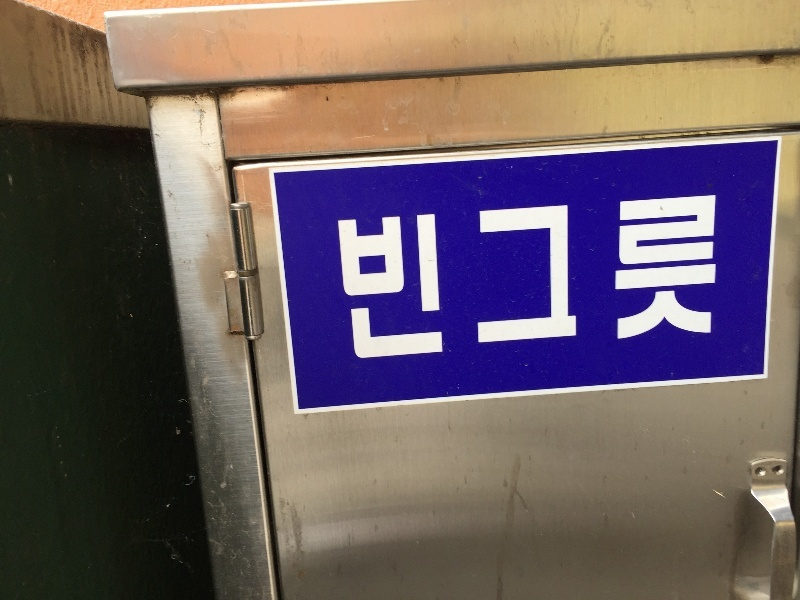text: (337, 188, 352, 387), (353, 188, 368, 387), (369, 188, 384, 387), (385, 188, 400, 387), (401, 188, 416, 387), (417, 188, 432, 387), (433, 188, 448, 387), (449, 188, 464, 387), (465, 188, 480, 387), (481, 188, 496, 387), (497, 188, 512, 387), (513, 188, 528, 387), (529, 188, 544, 387), (545, 188, 560, 387), (561, 188, 576, 387), (577, 188, 592, 387), (593, 188, 608, 387), (609, 188, 624, 387), (625, 188, 640, 387), (641, 188, 656, 387), (657, 188, 672, 387), (673, 188, 688, 387), (689, 188, 704, 387), (705, 188, 720, 387), (721, 188, 736, 387), (326, 188, 336, 387), (737, 188, 744, 387)
